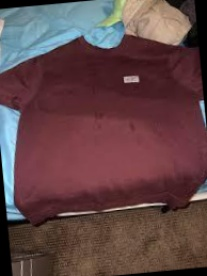oil: (91, 105, 107, 131), (125, 118, 136, 135)
